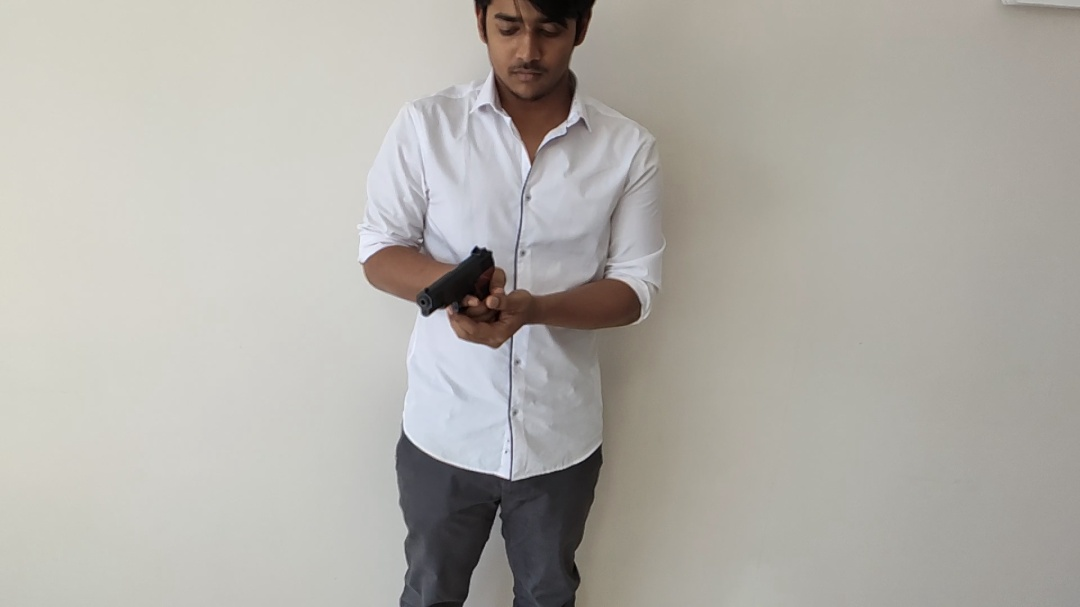gun: (416, 245, 495, 317)
